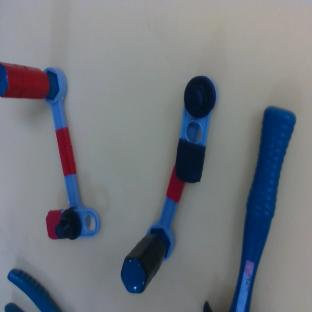non_pass: (108, 71, 237, 301)
pass: (0, 48, 104, 250)
